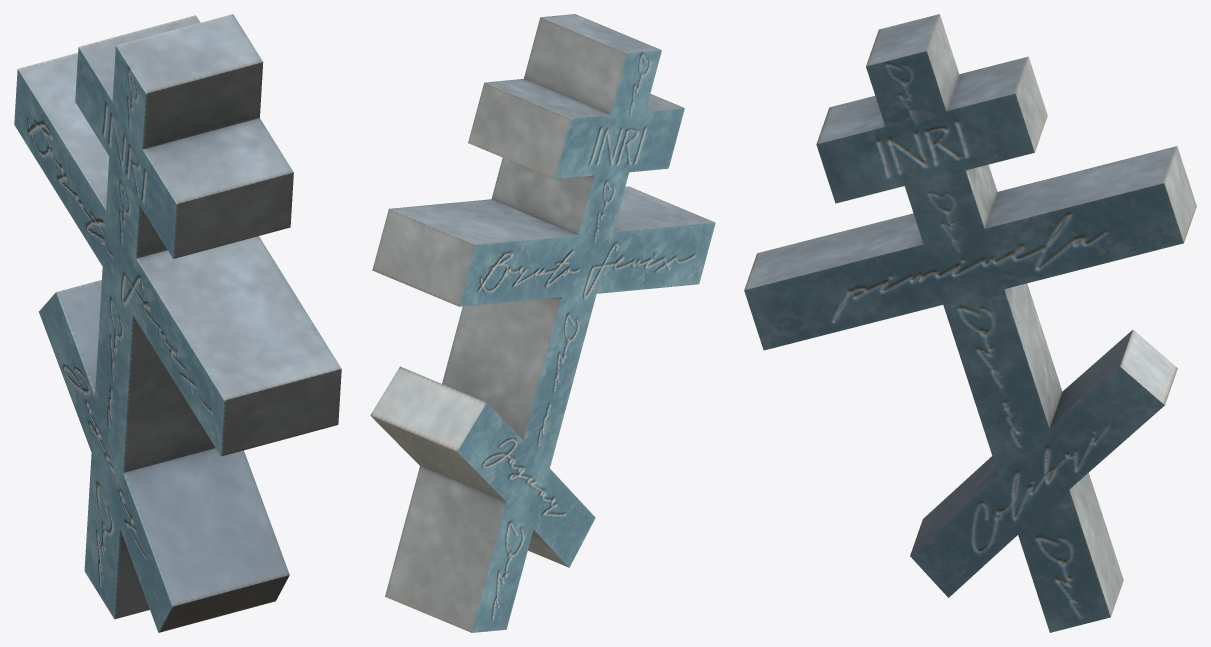
The picture shows the model from 3 angles, left to right: view 1: azimuth 30°, elevation 25°; view 2: azimuth 150°, elevation 25°; view 3: azimuth 270°, elevation 25°; orthographic projection. The views are drawn at different scales.
Visible parts, largest first — view 1: Cruz_Orto_Cube.011; view 2: Cruz_Orto_Cube.011; view 3: Cruz_Orto_Cube.011.
Part boxes in pixels (x1,y1,x2,y2): Cruz_Orto_Cube.011: (14,14,341,632); Cruz_Orto_Cube.011: (370,14,715,632); Cruz_Orto_Cube.011: (744,14,1196,632).
Size of the model in its own units: 0.8244 by 2.69 by 1.97.
